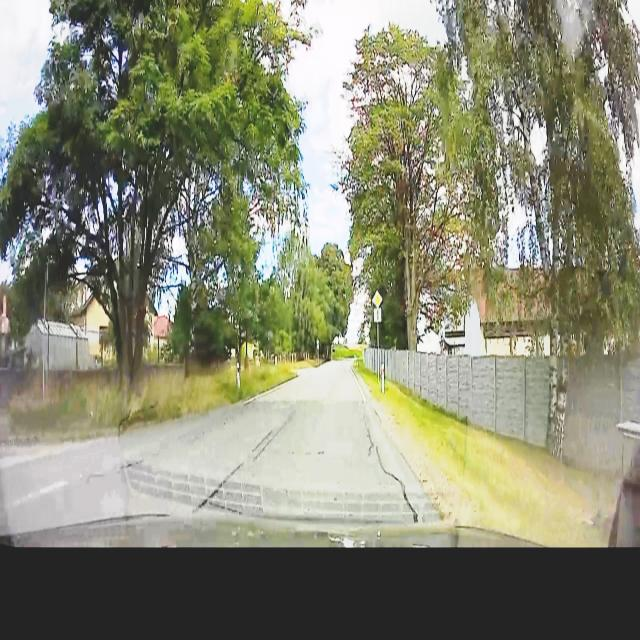Priority road: (371, 283, 383, 310)
